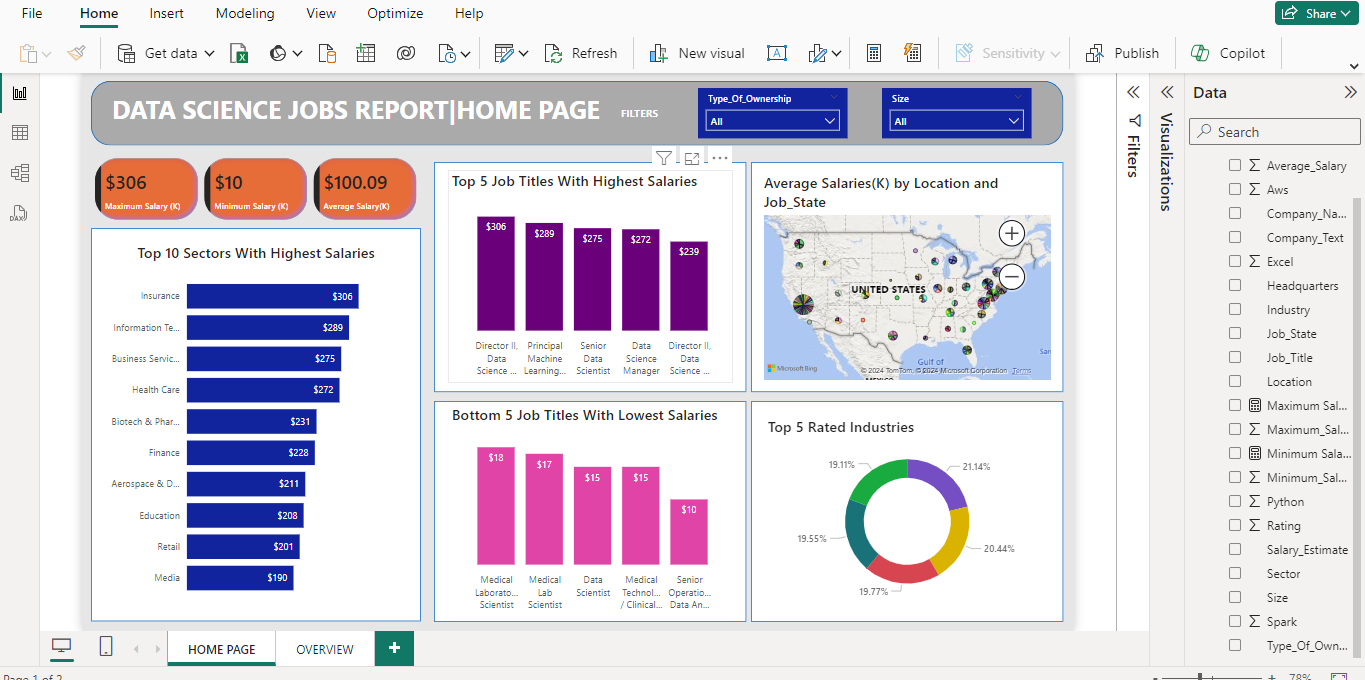

Layout of this report page (visuals, bound fields, positions):
{"tool":"powerbi","page":{"name":"HOME PAGE","canvas":[1280,720],"ordinal":0},"visuals":[{"type":"shape","box":[12.1,10.6,1254.5,83.3],"z":0},{"type":"textbox","box":[33.3,19.7,683.3,65.2],"z":1000},{"type":"shape","box":[12.1,200,425.8,507.6],"z":2000},{"type":"shape","box":[454.5,115.2,403,297],"z":3000},{"type":"shape","box":[863.6,115.2,403,297],"z":4000},{"type":"shape","box":[454.5,422.7,403,284.8],"z":5000},{"type":"shape","box":[863.6,422.7,403,284.8],"z":6000},{"type":"cardVisual","fields":{"Data":["Data_Science_Jobss.Maximum Salary (K)","Data_Science_Jobss.Minimum Salary (K)","Data_Science_Jobss.Average Salary"]},"box":[12.1,104.5,425.8,90.9],"z":7000},{"type":"barChart","title":"Top 10 Sectors With Highest Salaries","fields":{"Y":["Data_Science_Jobss.Maximum Salary (K)"],"Category":["Data_Science_Jobss.Sector"]},"box":[19.7,218.2,410.6,471.2],"z":8000},{"type":"columnChart","title":"Top 5 Job Titles With  Highest Salaries","fields":{"Y":["Data_Science_Jobss.Maximum Salary (K)"],"Category":["Data_Science_Jobss.Job_Title"]},"box":[472.7,125.8,366.7,274.2],"z":9000},{"type":"columnChart","title":"Bottom 5 Job Titles With Lowest Salaries","fields":{"Category":["Data_Science_Jobss.Job_Title"],"Y":["Data_Science_Jobss.Minimum Salary (K)"]},"box":[472.7,427.3,366.7,274.2],"z":10000},{"type":"map","title":"Average Salaries(K) by Location and Job_State","fields":{"Series":["Data_Science_Jobss.Location"],"Category":["Data_Science_Jobss.Job_State"],"Size":["Data_Science_Jobss.Average Salary(K)"]},"box":[874.2,127.3,380.3,272.7],"z":11000},{"type":"donutChart","title":"Top 5 Rated Industries","fields":{"Category":["Data_Science_Jobss.Industry"],"Y":["Avg(Data_Science_Jobss.Rating)"]},"box":[880.3,442.4,369.7,247],"z":12000},{"type":"slicer","fields":{"Values":["Data_Science_Jobss.Type_Of_Ownership"]},"box":[795.1,19.8,192.8,65.2],"z":12001},{"type":"slicer","fields":{"Values":["Data_Science_Jobss.Size"]},"box":[1031.8,19.8,192.8,65.2],"z":12002},{"type":"textbox","box":[690.2,36.9,75.1,31.2],"z":12003}]}

Visuals, with their boxes on the page's 1280x720 design canvas (x1, y1, x2, y2). These are canvas units, not pixel positions in the 1365x680 screenshot, which may show the page scaled, cropped or inside an application window:
shape: [x1=12, y1=11, x2=1267, y2=94]
textbox: [x1=33, y1=20, x2=717, y2=85]
shape: [x1=12, y1=200, x2=438, y2=708]
shape: [x1=454, y1=115, x2=858, y2=412]
shape: [x1=864, y1=115, x2=1267, y2=412]
shape: [x1=454, y1=423, x2=858, y2=708]
shape: [x1=864, y1=423, x2=1267, y2=708]
cardVisual - Data_Science_Jobss.Maximum Salary (K) x Data_Science_Jobss.Minimum Salary (K): [x1=12, y1=104, x2=438, y2=195]
"Top 10 Sectors With Highest Salaries" barChart: [x1=20, y1=218, x2=430, y2=689]
"Top 5 Job Titles With  Highest Salaries" columnChart: [x1=473, y1=126, x2=839, y2=400]
"Bottom 5 Job Titles With Lowest Salaries" columnChart: [x1=473, y1=427, x2=839, y2=702]
"Average Salaries(K) by Location and Job_State" map: [x1=874, y1=127, x2=1254, y2=400]
"Top 5 Rated Industries" donutChart: [x1=880, y1=442, x2=1250, y2=689]
slicer - Data_Science_Jobss.Type_Of_Ownership: [x1=795, y1=20, x2=988, y2=85]
slicer - Data_Science_Jobss.Size: [x1=1032, y1=20, x2=1225, y2=85]
textbox: [x1=690, y1=37, x2=765, y2=68]
